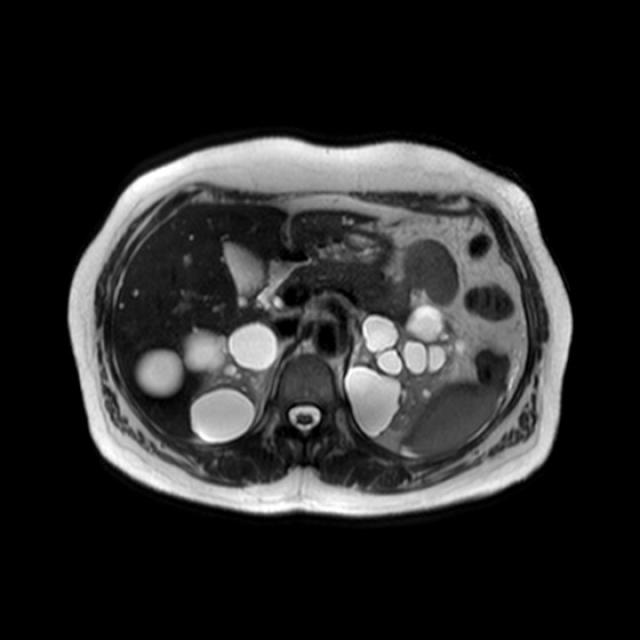sag: (134, 321, 277, 444)
sol: (345, 304, 469, 445)
